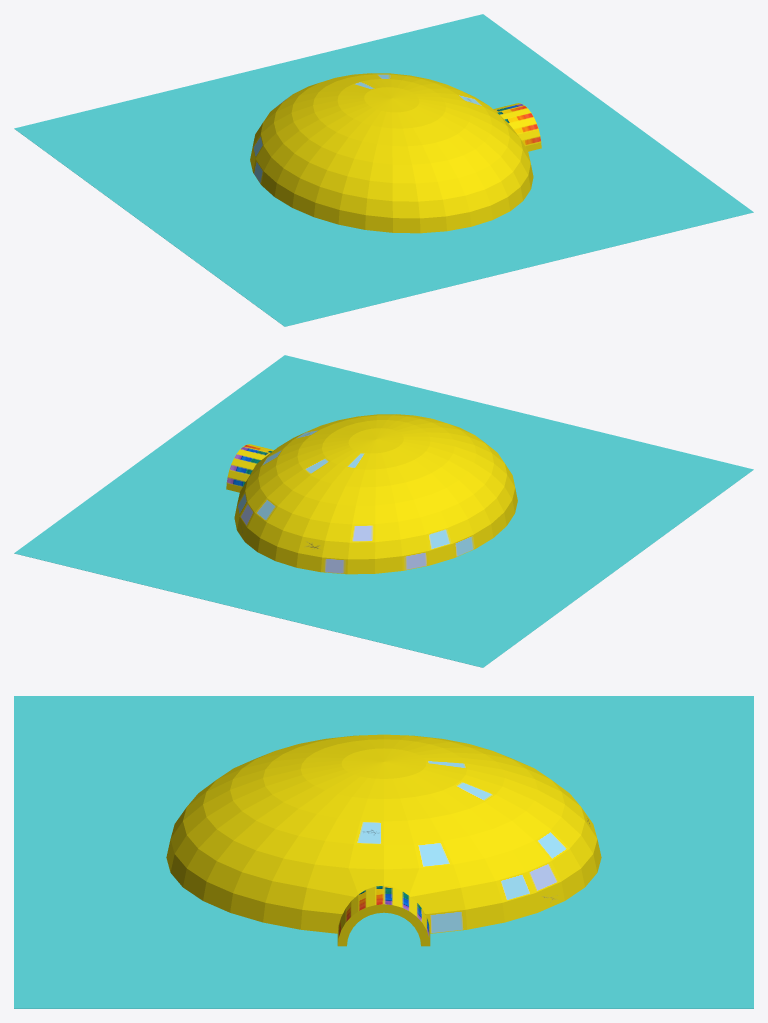
File: igloo.gold.gltf
3 renders of one model, top to bottom at view 1: azimuth 30°, elevation 25°; view 2: azimuth 150°, elevation 25°; view 3: azimuth 270°, elevation 25°, orthographic. The views are drawn at different scales.
Visible parts, largest first — view 1: Cube, Cylinder.001; view 2: Cube, Cylinder.001; view 3: Cube, Cylinder.001.
Boxes of the visible parts, x1=… form: Cube: x1=14, y1=14, x2=753, y2=326; Cylinder.001: x1=250, y1=73, x2=541, y2=233; Cube: x1=14, y1=355, x2=753, y2=667; Cylinder.001: x1=226, y1=414, x2=517, y2=574; Cube: x1=14, y1=696, x2=753, y2=1008; Cylinder.001: x1=166, y1=734, x2=601, y2=946.
Bounding box in the file's own units: 60 × 8.58 × 60.
Materials: 3 (3 with a texture image).
